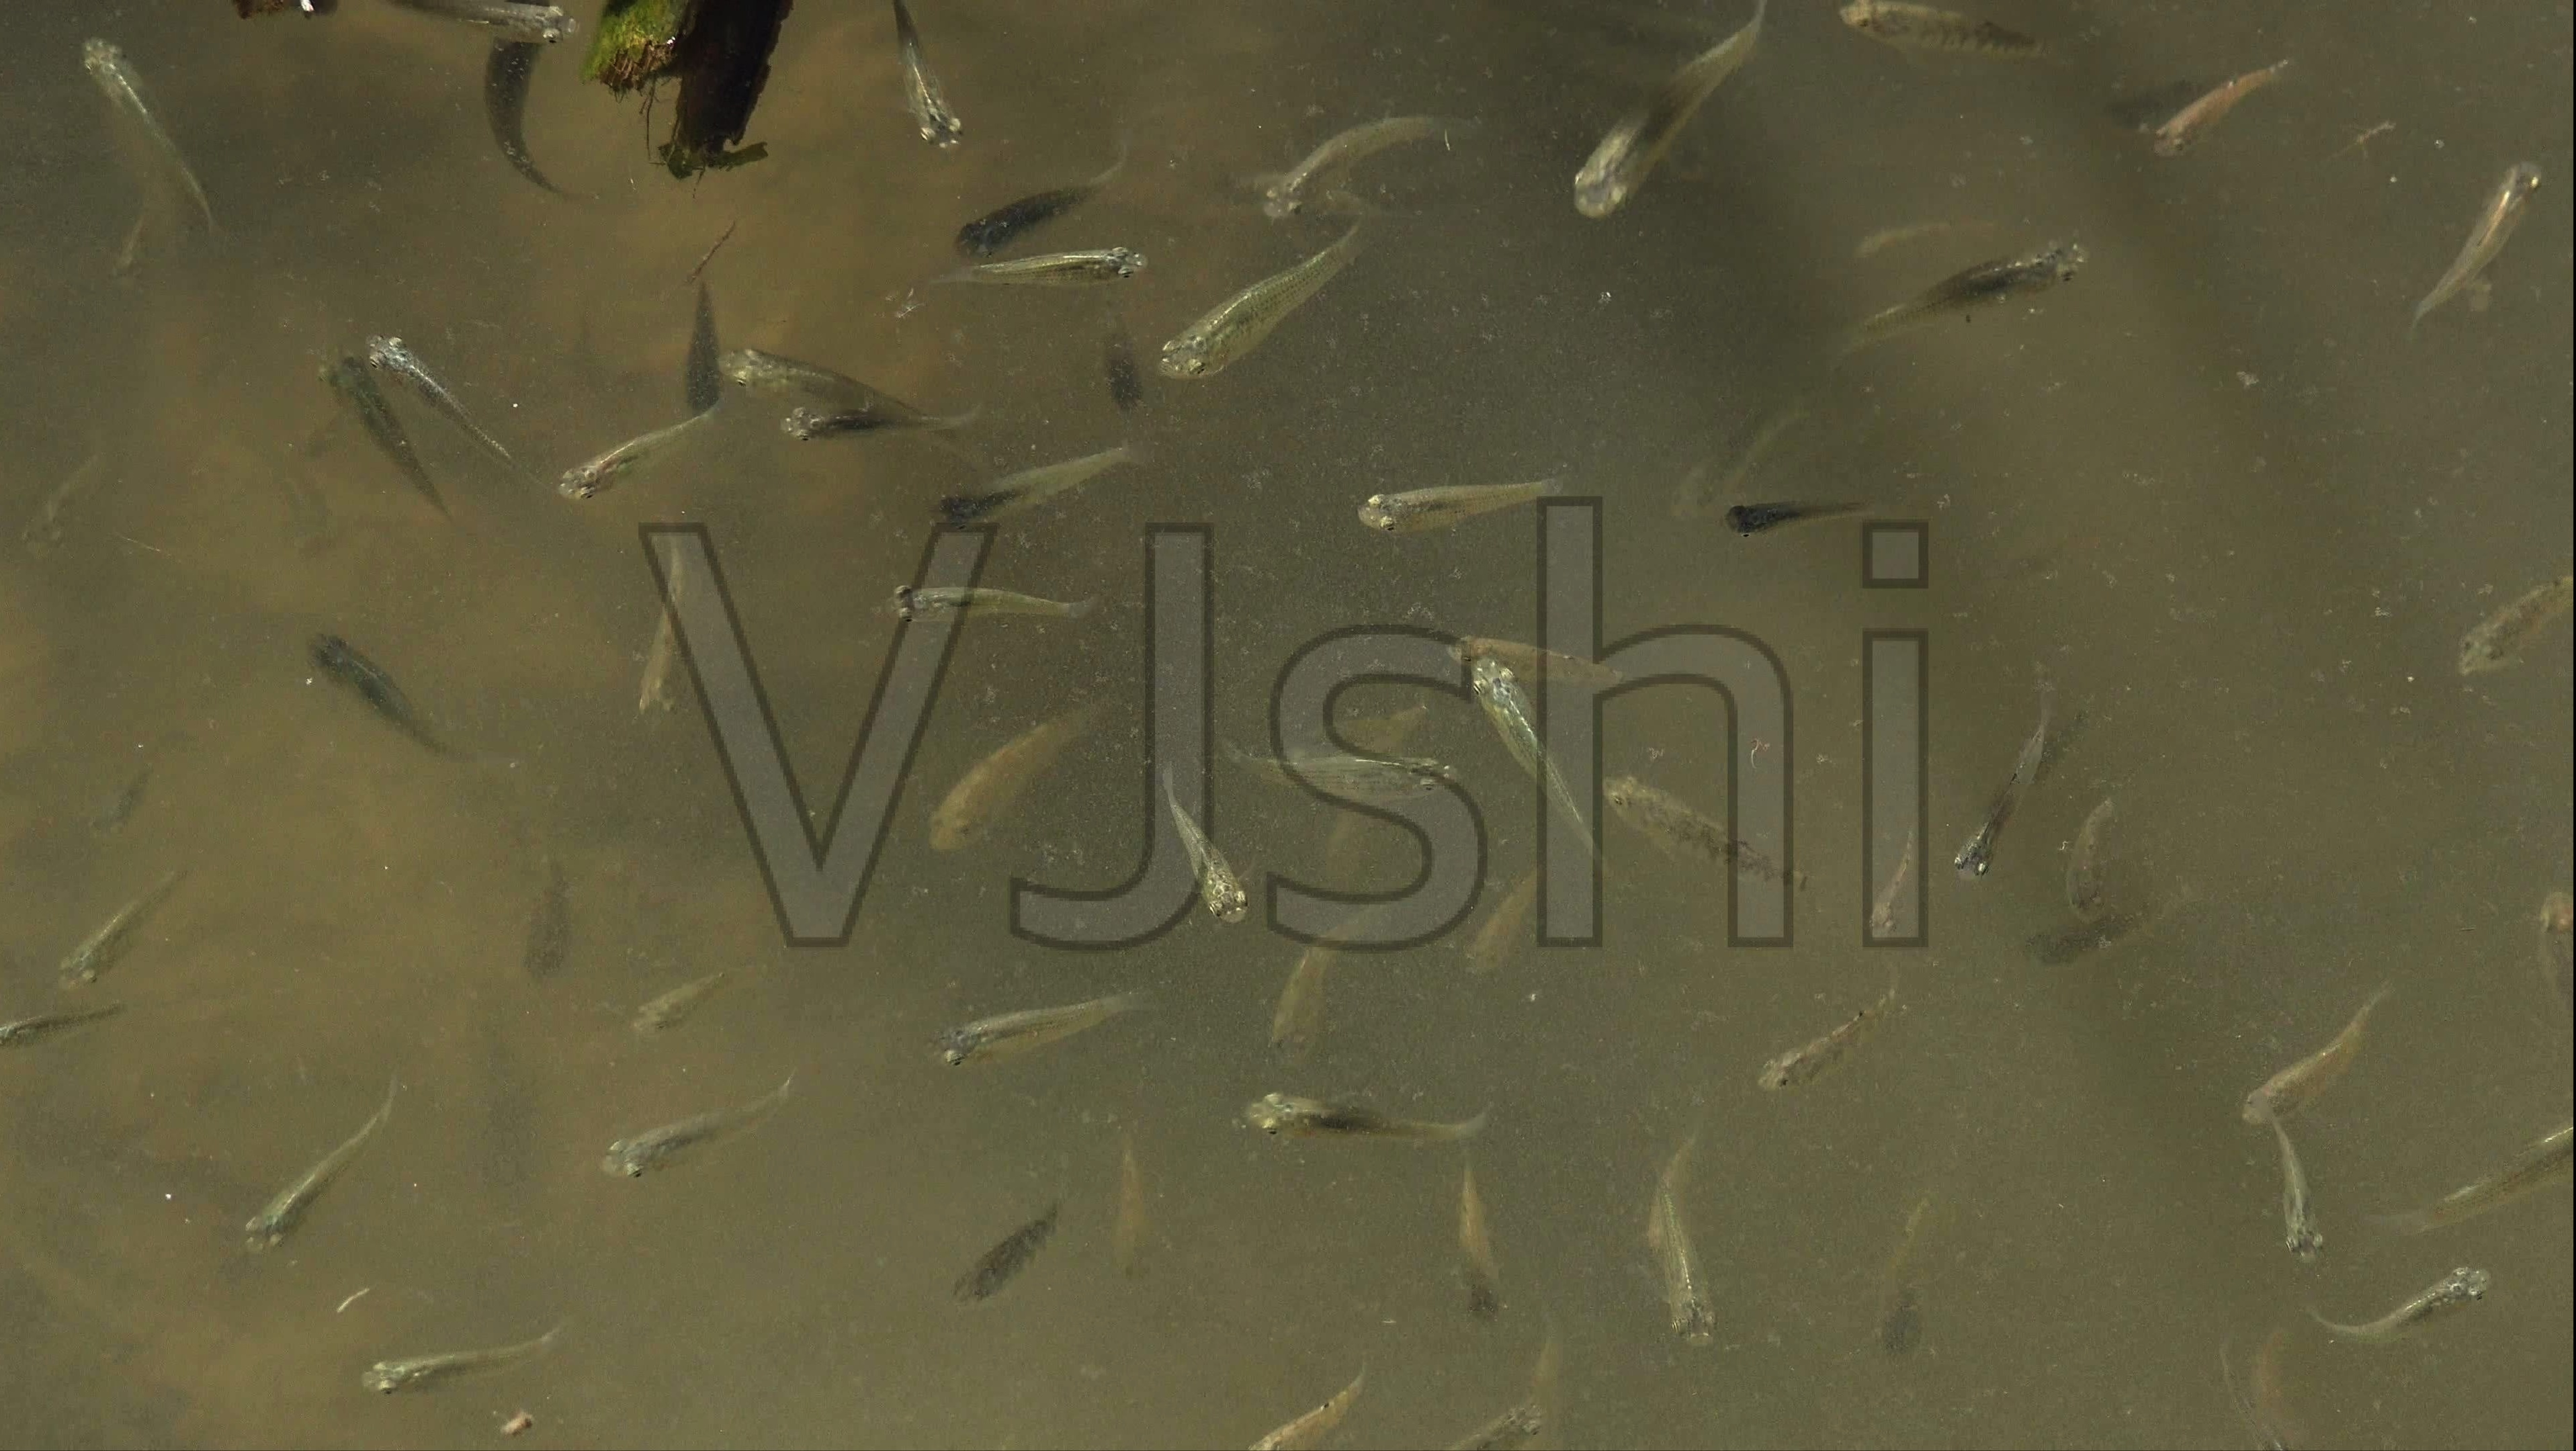fry: (1851, 202, 2155, 375), (1537, 39, 1766, 265), (73, 23, 242, 265), (2408, 111, 2569, 361), (924, 943, 1182, 1097), (1136, 257, 1343, 439), (1617, 1118, 1760, 1380), (269, 582, 469, 770), (1212, 87, 1444, 242), (1606, 747, 1828, 906), (218, 1088, 395, 1281), (570, 1083, 847, 1200), (2105, 19, 2295, 189), (904, 722, 1108, 879), (464, 48, 630, 237), (1856, 1166, 1990, 1394), (1221, 1074, 1500, 1180), (1067, 1118, 1208, 1315), (851, 16, 1016, 184), (867, 564, 1125, 669), (2327, 1228, 2528, 1361), (1637, 363, 1799, 524), (2427, 549, 2572, 727), (1332, 457, 1569, 564), (2231, 996, 2410, 1132), (1944, 699, 2058, 913), (1838, 4, 2082, 103), (44, 848, 198, 1000), (322, 1329, 593, 1414), (2424, 1079, 2572, 1233), (1467, 658, 1596, 833), (610, 545, 732, 727), (927, 1193, 1077, 1338), (1736, 977, 1930, 1088), (913, 449, 1131, 549), (584, 948, 764, 1060), (1240, 927, 1361, 1094), (1424, 1175, 1529, 1366), (1431, 871, 1573, 1010), (11, 425, 117, 607), (929, 170, 1125, 265), (9, 991, 203, 1083), (322, 327, 414, 511), (338, 0, 602, 64), (1162, 795, 1263, 954), (1732, 481, 1934, 557), (543, 414, 692, 511), (759, 391, 962, 462), (356, 322, 490, 428), (2266, 1108, 2348, 1279), (731, 336, 890, 419), (1444, 610, 1596, 697), (1007, 228, 1155, 315), (663, 265, 732, 434), (2059, 798, 2139, 940), (1254, 1366, 1384, 1451)
